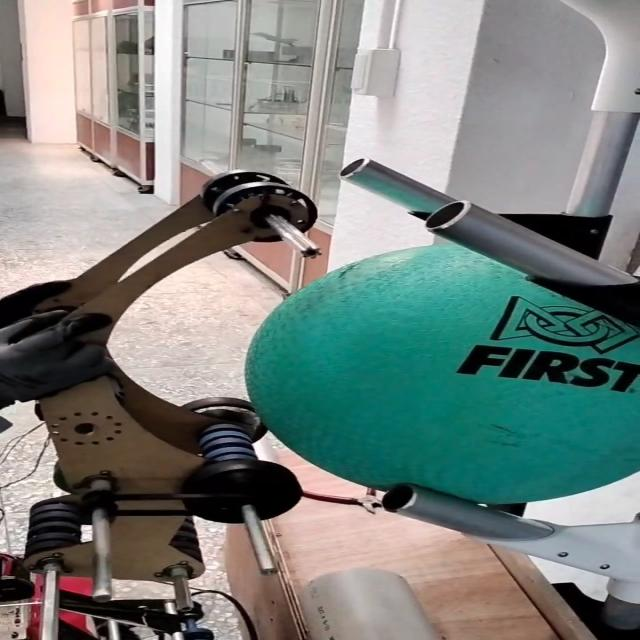ALGAE: (231, 235, 640, 507)
CORAL: (291, 562, 457, 640)
